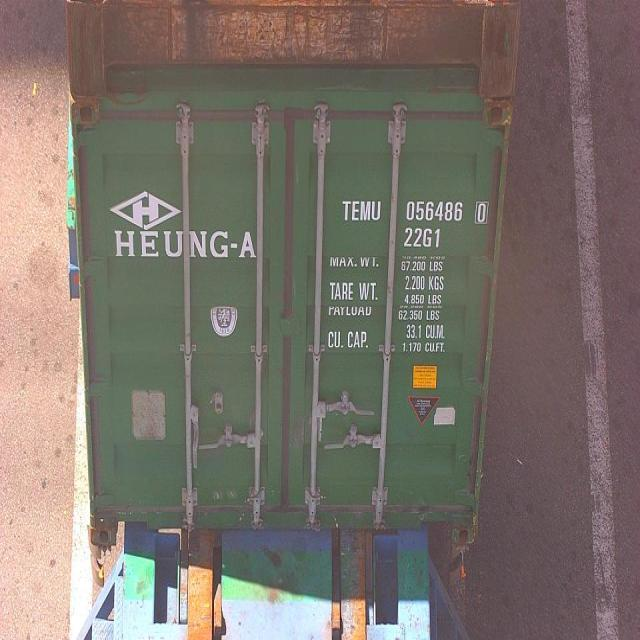ISO: (404, 226, 442, 248)
container_number: (342, 200, 491, 224)
